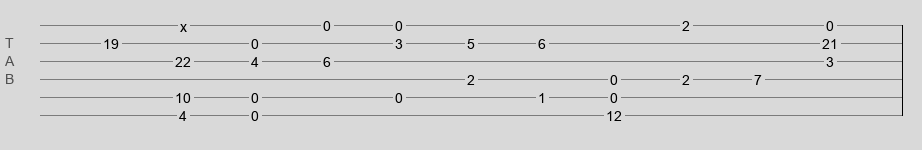0: (251, 90, 259, 100), (251, 36, 259, 46), (251, 108, 259, 118), (323, 18, 331, 28), (395, 18, 403, 28), (395, 90, 403, 100), (610, 72, 618, 82), (610, 90, 618, 100), (826, 18, 834, 28)
1: (538, 90, 546, 100)
10: (175, 90, 191, 100)
12: (606, 108, 622, 118)
19: (103, 36, 119, 46)
2: (467, 72, 475, 82), (682, 72, 690, 82), (682, 18, 690, 28)
21: (822, 36, 838, 46)
22: (175, 54, 191, 64)
3: (395, 36, 403, 46), (826, 54, 834, 64)
4: (179, 108, 187, 118), (251, 54, 259, 64)
5: (467, 36, 475, 46)
6: (323, 54, 331, 64), (538, 36, 546, 46)
7: (754, 72, 762, 82)
x: (180, 19, 187, 27)
